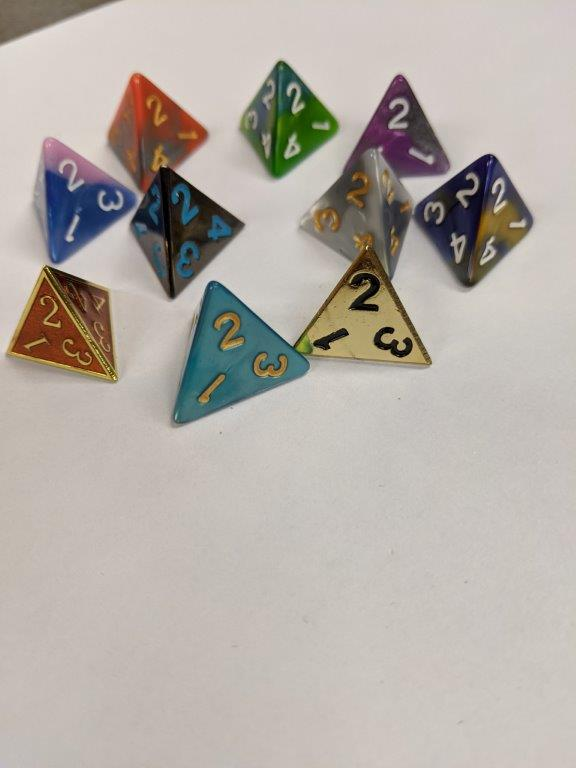d4-2: (165, 278, 307, 437), (288, 245, 433, 371), (415, 151, 534, 292), (294, 149, 414, 286), (127, 166, 248, 298), (28, 136, 134, 264), (6, 267, 119, 384), (101, 69, 209, 190), (234, 56, 337, 181), (341, 73, 450, 177)
